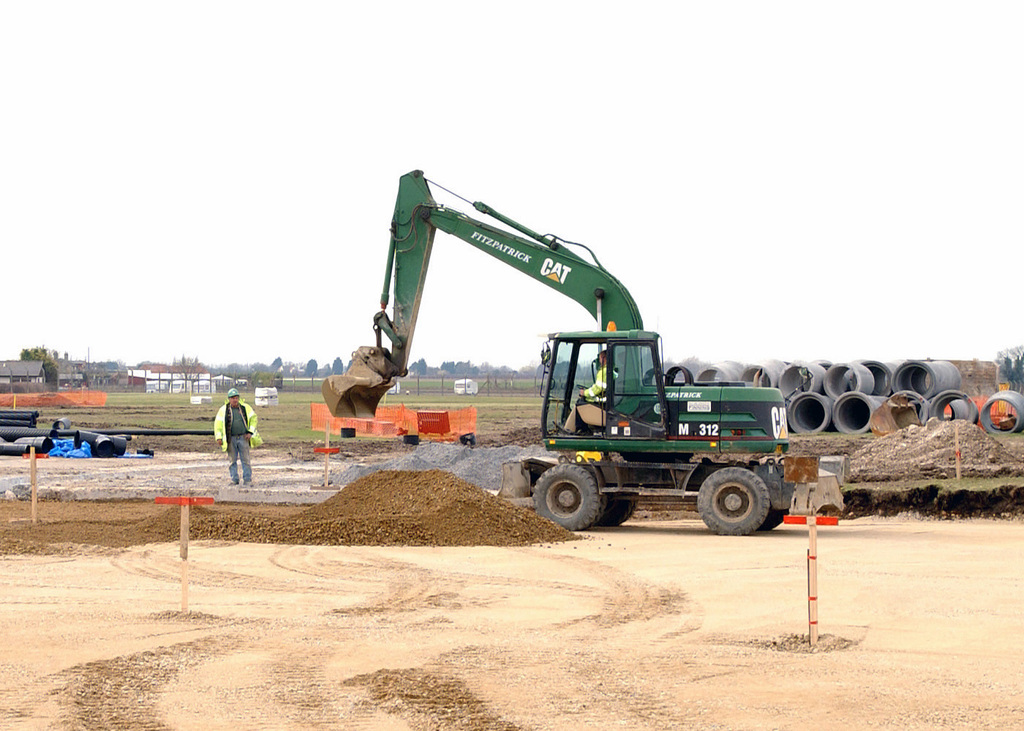excavator: (322, 151, 791, 537)
